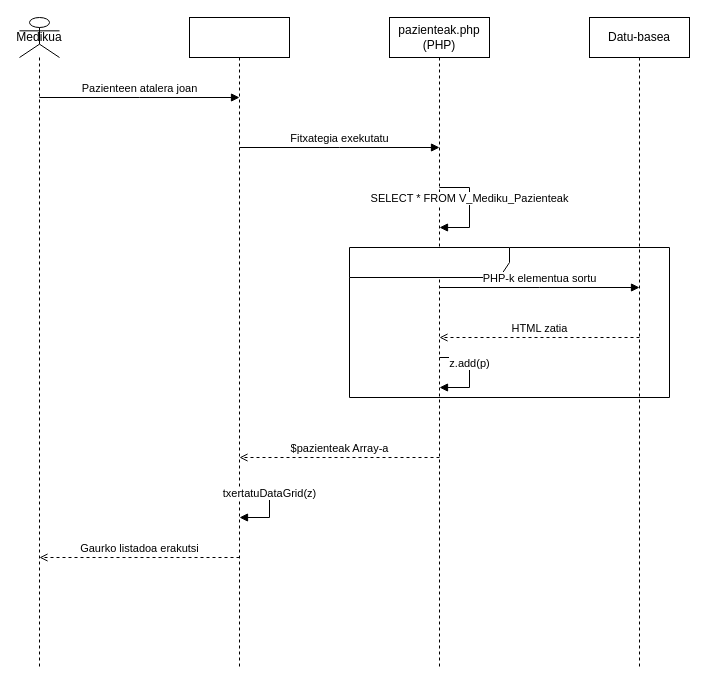
This 707x685 diagram has some shape labels left out. Each missing label, with the box of its shape:
loop [PHP foreach begizta]: (348, 246, 670, 398)
pazienteak.php (HTML): (188, 16, 290, 668)
